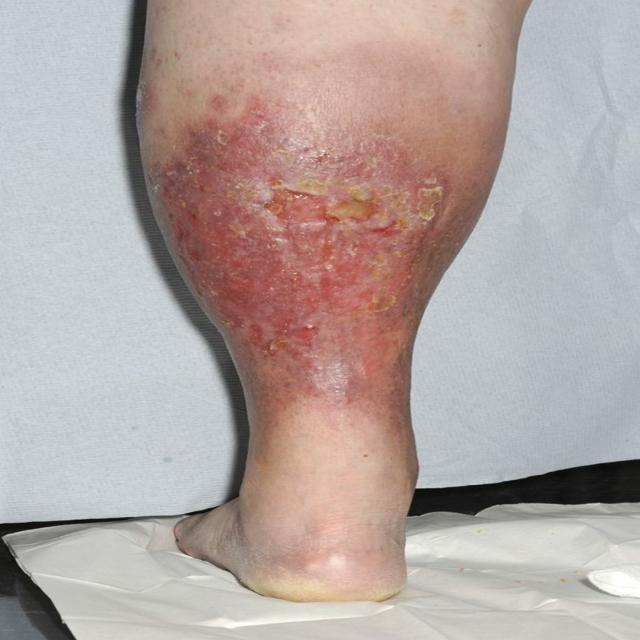wound: (141, 88, 454, 399)
